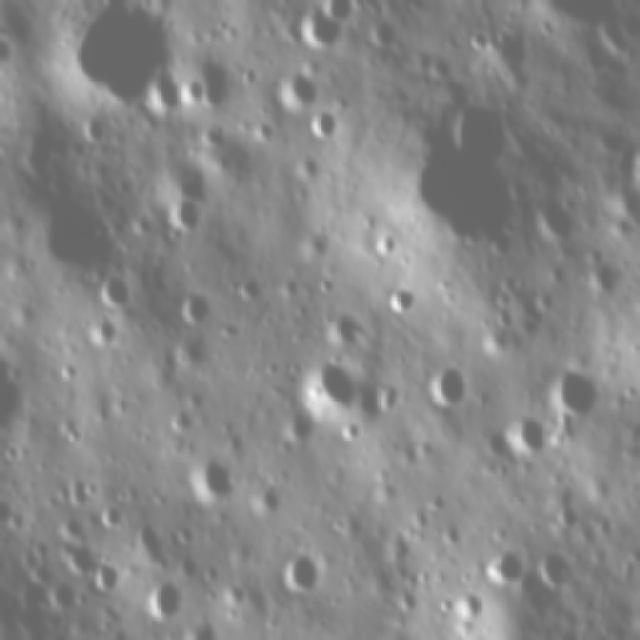crater: (65, 10, 170, 95), (305, 349, 347, 426), (547, 368, 595, 420), (490, 416, 547, 458), (187, 458, 239, 502), (273, 58, 315, 109), (299, 2, 347, 46), (432, 361, 468, 405), (150, 576, 190, 613), (304, 110, 347, 142), (532, 554, 568, 586), (493, 548, 522, 586), (180, 293, 208, 330), (92, 501, 119, 536), (385, 290, 413, 322), (95, 562, 123, 592), (104, 275, 130, 307), (459, 29, 492, 54), (88, 320, 121, 345), (292, 556, 316, 590), (67, 544, 93, 574), (372, 230, 398, 259), (297, 154, 323, 183), (176, 202, 198, 233), (50, 584, 76, 610), (456, 594, 482, 615), (61, 423, 84, 445), (32, 556, 48, 587), (314, 274, 334, 295), (492, 308, 512, 327), (58, 364, 78, 382), (3, 444, 19, 464)
